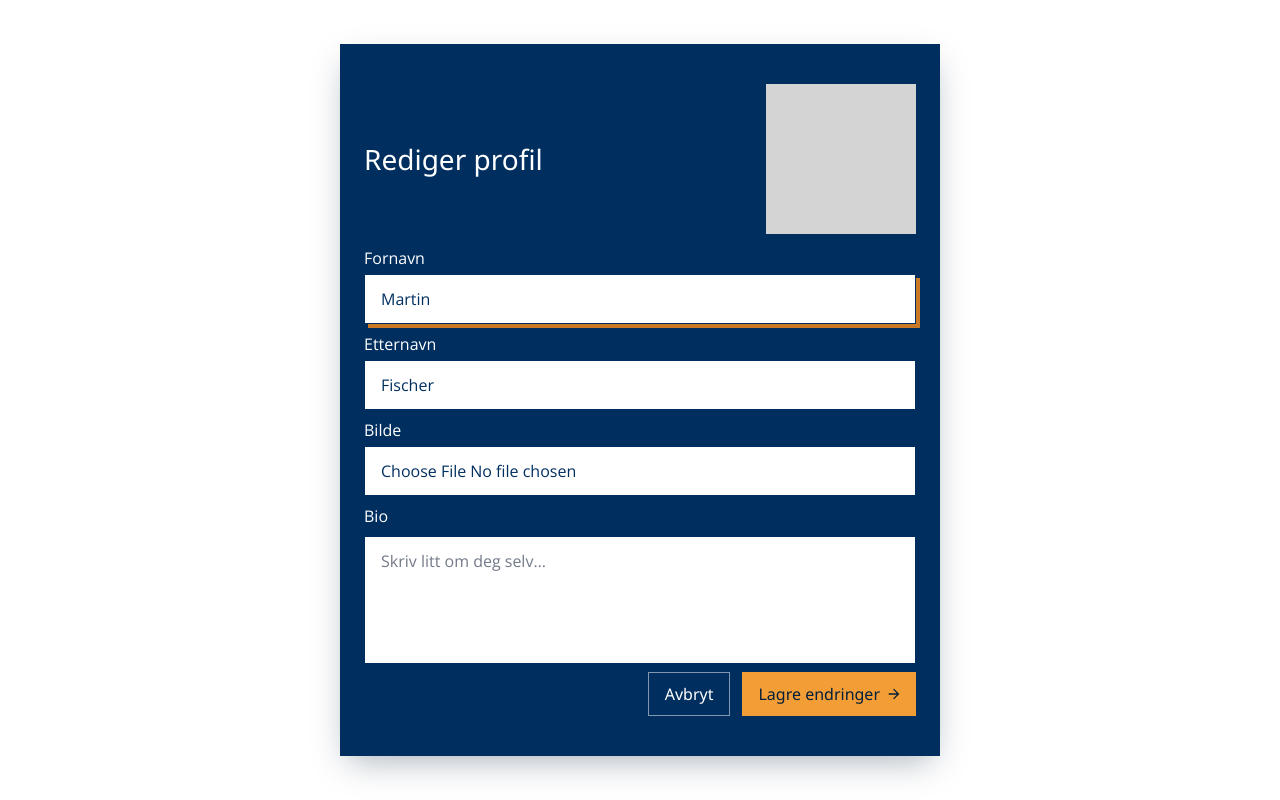
Test case: ProfileForm › surfaces a save failure instead of closing silently (#169)
What coordinates should you click on to do the following:
click the button "Lagre endringer"
I would click on:
 (829, 694)
Its box is [742,672,916,716].
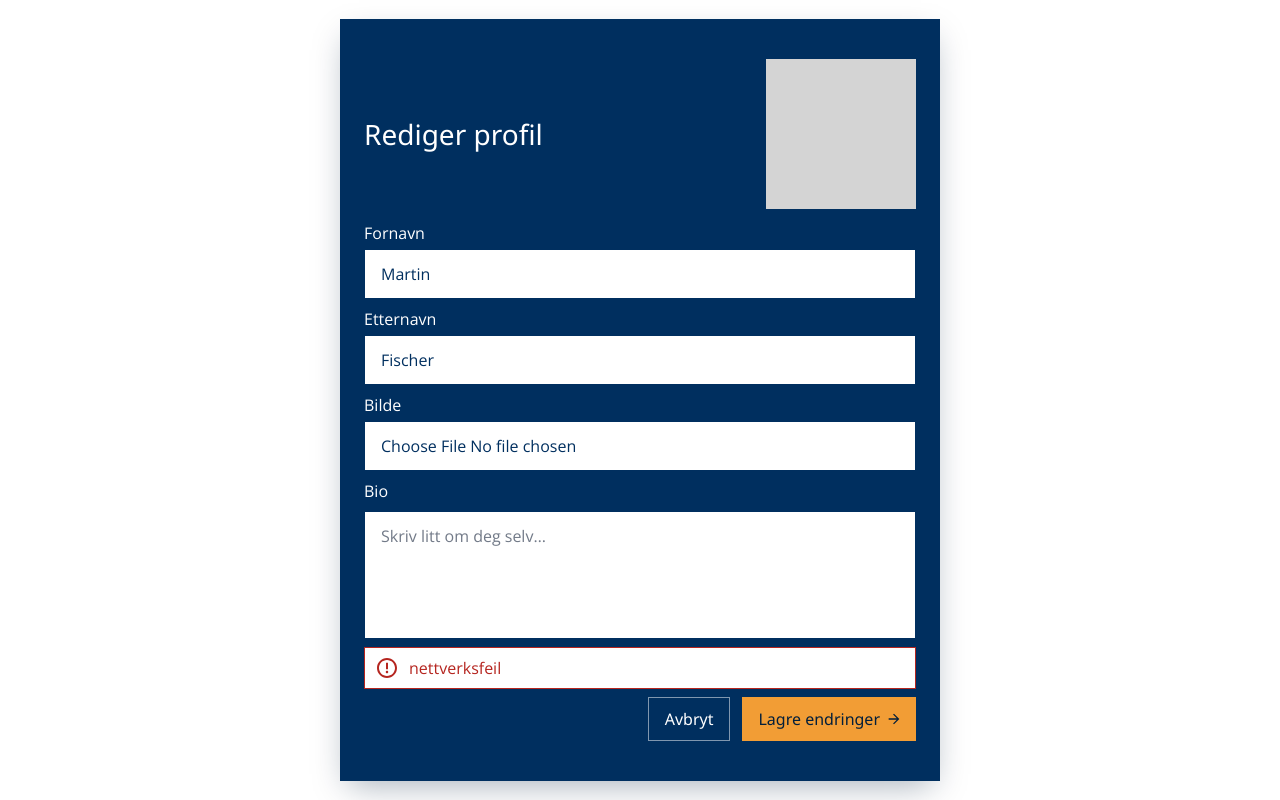
Expected: the message reads "nettverksfeil", [409,657,501,679]
